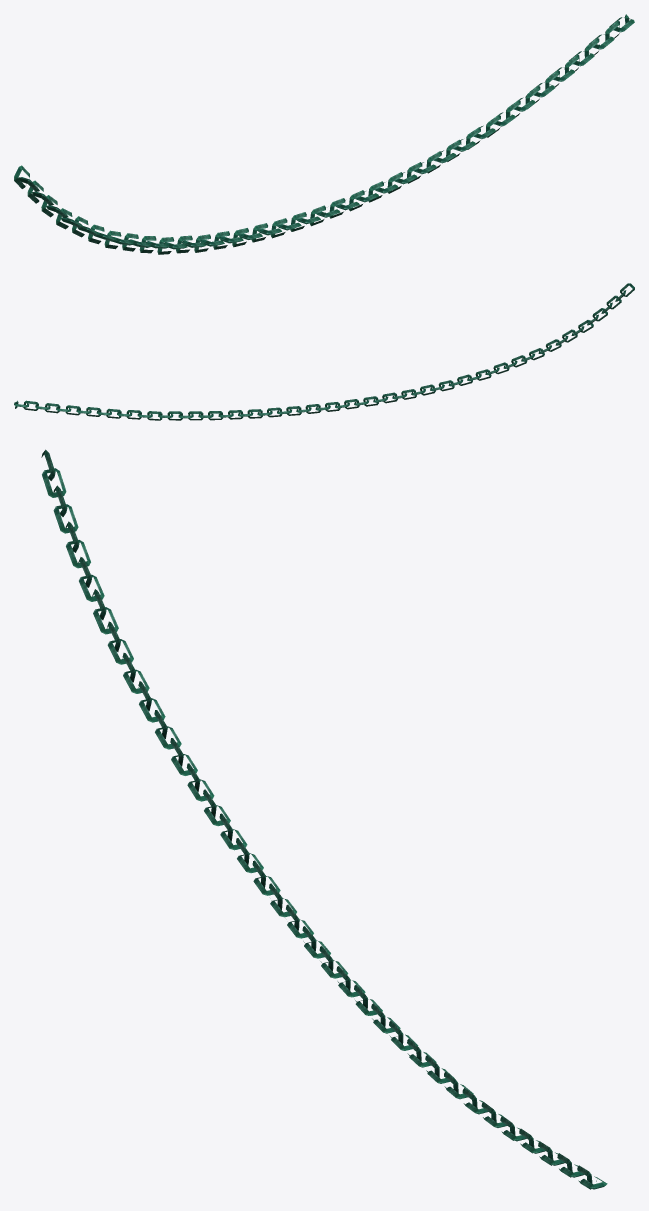
The model's file is 5st_chain_002.glb.
3 views of the same model, one above another, from view 1: azimuth 30°, elevation 25°; view 2: azimuth 150°, elevation 25°; view 3: azimuth 270°, elevation 25° (orthographic). The views are drawn at different scales.
Visible parts, largest first — view 1: 5st_chain_02; view 2: 5st_chain_02; view 3: 5st_chain_02.
Part boxes in pixels (<box>): 5st_chain_02: <box>14,14,634,254</box>; 5st_chain_02: <box>14,283,634,420</box>; 5st_chain_02: <box>41,449,607,1189</box>.
Size of the model in its own units: 41.44 by 12.3 by 21.05.
Materials: 1 (1 with a texture image).
